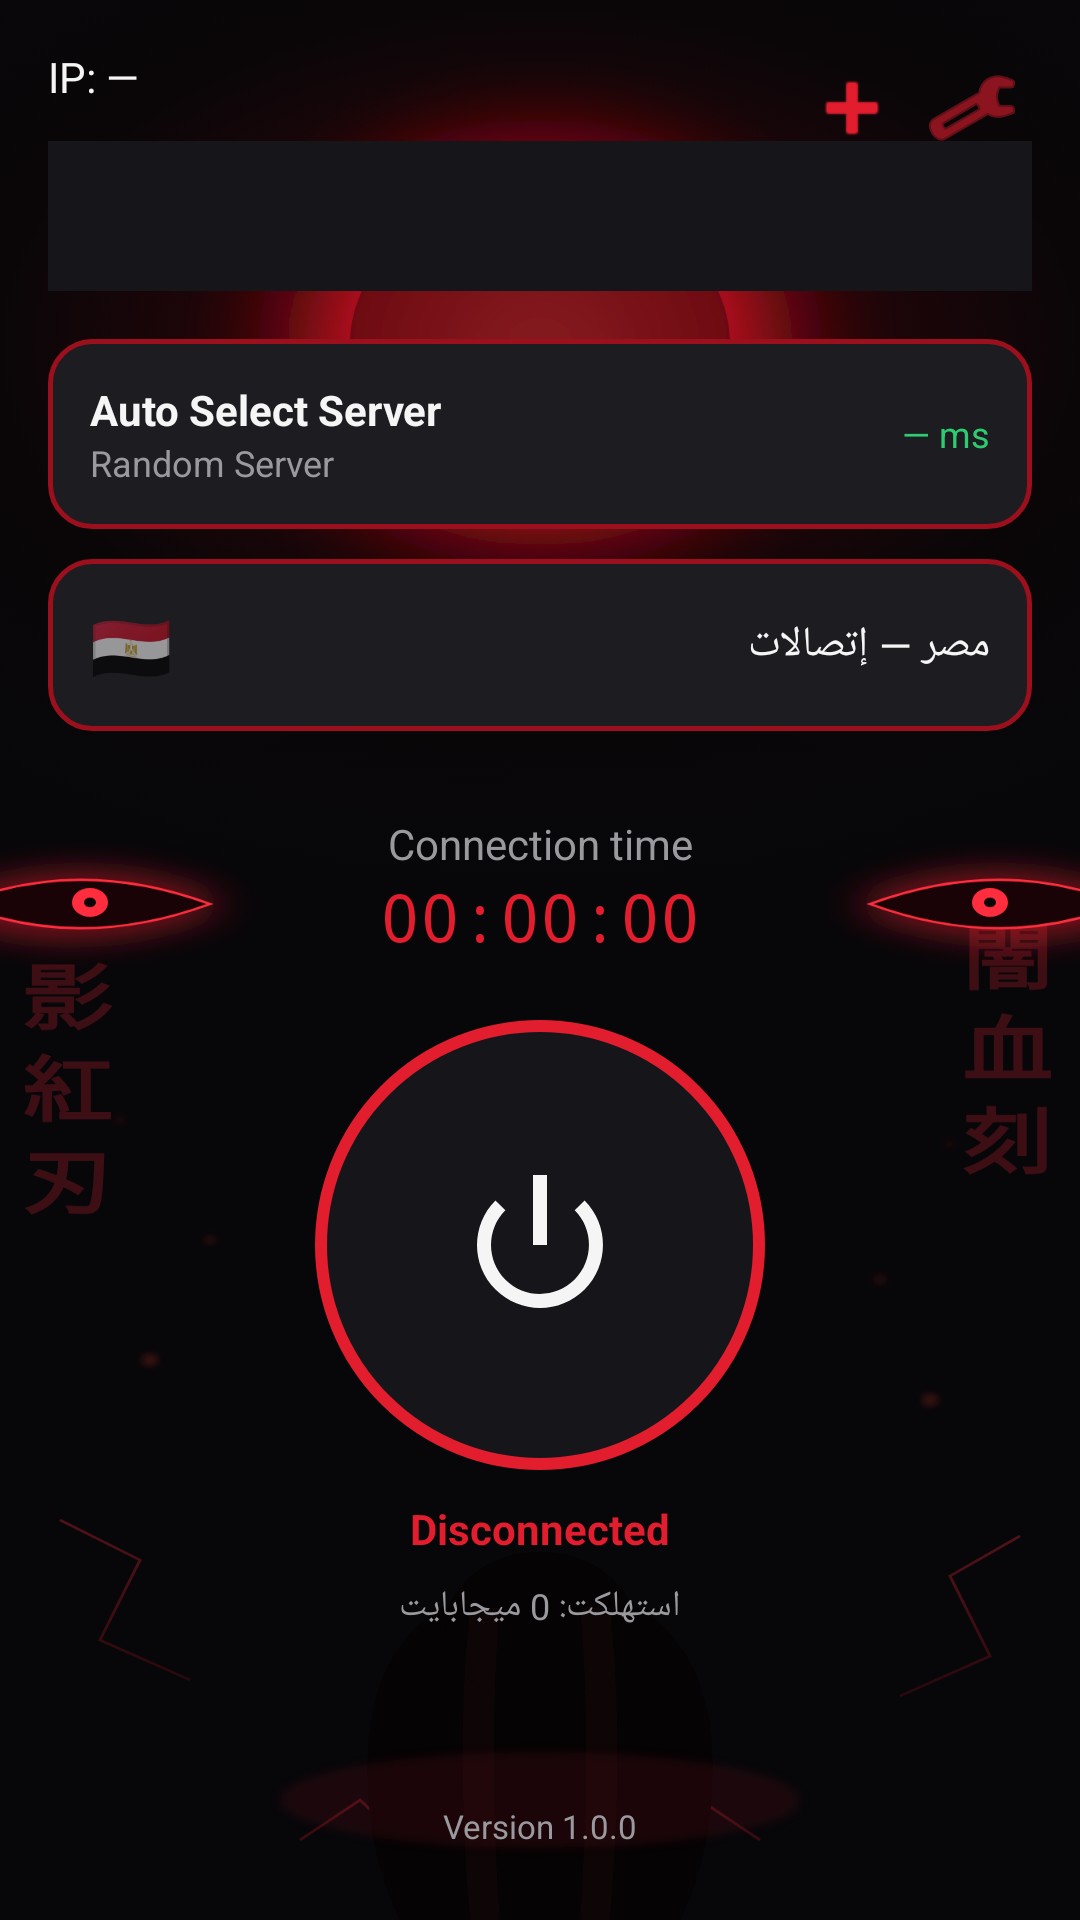

Point at icon controls on the screen. Image size 1080 × 1920, points as [x,y].
add: [852,108]
lock power off: [540,1241]
preferences: [972,108]
